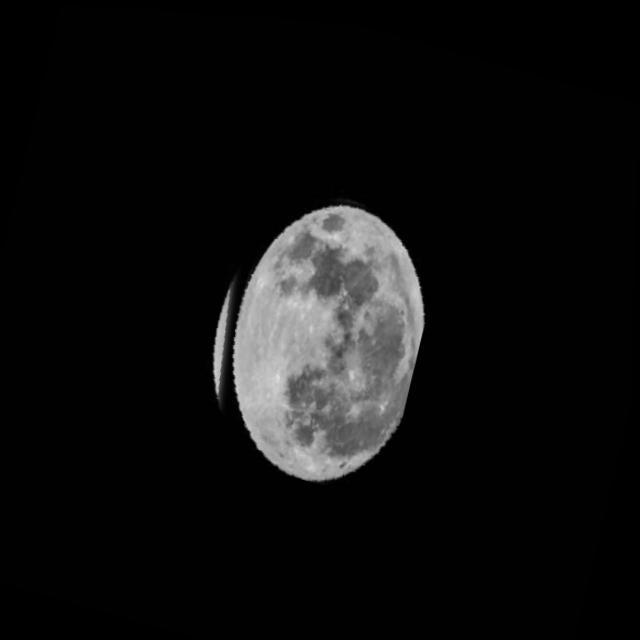moon: (179, 156, 451, 500)
